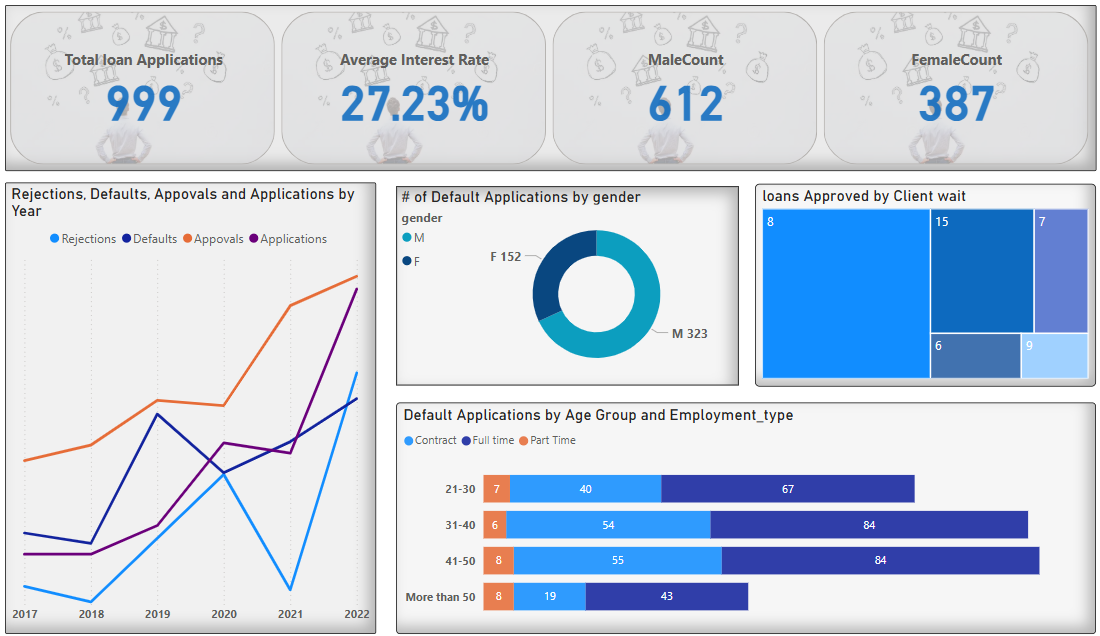

The page's visual inventory and layout, read from the dashboard file:
{"tool":"powerbi","page":{"name":"Page 1","canvas":[1280,720],"ordinal":0},"visuals":[{"type":"cardVisual","fields":{"Data":["calculations.# OF APPLICATIONS","calculations.Average Interest Rate","Table.MaleCount","calculations.FemaleCount"]},"box":[49,16.3,1187.8,181],"z":0},{"type":"donutChart","fields":{"Category":["Table1.gender"],"Y":["calculations.# of Default Applications"]},"box":[474.5,214,373,216.4],"z":1000},{"type":"treemap","fields":{"Group":["Table.Client Wait Time"],"Values":["calculations.loans Approved"]},"box":[865.3,210.9,371.4,220.4],"z":2000},{"type":"barChart","fields":{"Category":["Table.Age Group"],"Series":["Table.Employment_type"],"Y":["calculations.# of Default Applications"]},"box":[474.8,449,761.9,251.7],"z":3000},{"type":"lineChart","fields":{"Y":["calculations.loans Rejected","calculations.# of Default Applications","calculations.loans Approved"],"Category":["Table.Time to response.Variation.Date Hierarchy.Year"],"Y2":["calculations.# OF APPLICATIONS"]},"box":[49,209.5,404.1,491.2],"z":4000}]}

Visuals, with their boxes in screenshot pixels (x1, y1, x2, y2), scaled from the page's 1280x720 canvas onto the 1100x636 screenshot:
cardVisual - calculations.# OF APPLICATIONS x calculations.Average Interest Rate: box=[42, 14, 1063, 174]
donutChart - Table1.gender x calculations.# of Default Applications: box=[408, 189, 728, 380]
treemap - Table.Client Wait Time x calculations.loans Approved: box=[744, 186, 1063, 381]
barChart - Table.Age Group x Table.Employment_type: box=[408, 397, 1063, 619]
lineChart - calculations.loans Rejected x calculations.# of Default Applications: box=[42, 185, 389, 619]
